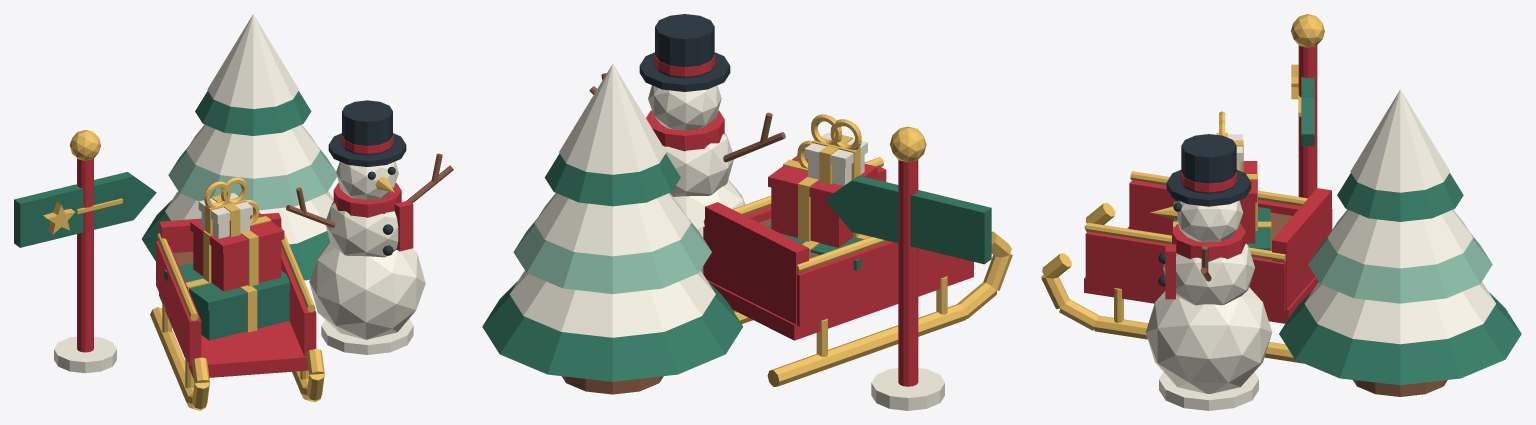
The model's file is sleighstop.glb.
3 renders of one model, left to right at view 1: azimuth 30°, elevation 25°; view 2: azimuth 150°, elevation 25°; view 3: azimuth 270°, elevation 25°, orthographic. The views are drawn at different scales.
Parts seen in each view (by area): view 1: 002-snowman/1, 003-north-pole-sign/2, 004-snowy-fir/5, 004-snowy-fir/7, 004-snowy-fir/4, 000-santa-sleigh/0, 004-snowy-fir/6, 003-north-pole-sign/1, 002-snowman/2, 001-gift-stack/6, 001-gift-stack/0, 004-snowy-fir/3 (+29 smaller); view 2: 004-snowy-fir/2, 004-snowy-fir/3, 003-north-pole-sign/2, 000-santa-sleigh/1, 004-snowy-fir/4, 004-snowy-fir/5, 004-snowy-fir/7, 000-santa-sleigh/3, 004-snowy-fir/6, 003-north-pole-sign/1, 000-santa-sleigh/4, 000-santa-sleigh/0 (+24 smaller); view 3: 004-snowy-fir/2, 002-snowman/1, 004-snowy-fir/3, 004-snowy-fir/4, 004-snowy-fir/5, 004-snowy-fir/7, 000-santa-sleigh/11, 000-santa-sleigh/1, 004-snowy-fir/6, 002-snowman/2, 002-snowman/5, 000-santa-sleigh/3 (+21 smaller).
Boxes of the visible parts, x1=… form: 002-snowman/1: x1=309, y1=242, x2=425, y2=339; 003-north-pole-sign/2: x1=14, y1=172, x2=156, y2=247; 004-snowy-fir/5: x1=186, y1=124, x2=320, y2=178; 004-snowy-fir/7: x1=207, y1=14, x2=298, y2=108; 004-snowy-fir/4: x1=168, y1=147, x2=336, y2=210; 000-santa-sleigh/0: x1=159, y1=293, x2=308, y2=378; 004-snowy-fir/6: x1=195, y1=91, x2=311, y2=135; 003-north-pole-sign/1: x1=77, y1=158, x2=93, y2=352; 002-snowman/2: x1=325, y1=200, x2=403, y2=257; 001-gift-stack/6: x1=193, y1=233, x2=281, y2=291; 001-gift-stack/0: x1=193, y1=291, x2=289, y2=340; 004-snowy-fir/3: x1=165, y1=191, x2=333, y2=244; 004-snowy-fir/2: x1=482, y1=281, x2=742, y2=381; 004-snowy-fir/3: x1=509, y1=271, x2=715, y2=337; 003-north-pole-sign/2: x1=825, y1=175, x2=991, y2=264; 000-santa-sleigh/1: x1=705, y1=202, x2=808, y2=326; 004-snowy-fir/4: x1=513, y1=219, x2=711, y2=293; 004-snowy-fir/5: x1=534, y1=193, x2=690, y2=256; 004-snowy-fir/7: x1=559, y1=64, x2=666, y2=174; 000-santa-sleigh/3: x1=797, y1=241, x2=973, y2=326; 004-snowy-fir/6: x1=544, y1=153, x2=680, y2=206; 003-north-pole-sign/1: x1=898, y1=159, x2=918, y2=386; 000-santa-sleigh/4: x1=767, y1=304, x2=967, y2=386; 000-santa-sleigh/0: x1=707, y1=265, x2=973, y2=340; 004-snowy-fir/2: x1=1279, y1=292, x2=1521, y2=385; 002-snowman/1: x1=1145, y1=287, x2=1272, y2=393; 004-snowy-fir/3: x1=1304, y1=282, x2=1495, y2=344; 004-snowy-fir/4: x1=1308, y1=234, x2=1492, y2=303; 004-snowy-fir/5: x1=1327, y1=209, x2=1473, y2=268; 004-snowy-fir/7: x1=1350, y1=89, x2=1450, y2=192; 000-santa-sleigh/11: x1=1085, y1=231, x2=1285, y2=312; 000-santa-sleigh/1: x1=1272, y1=188, x2=1331, y2=311; 004-snowy-fir/6: x1=1337, y1=173, x2=1463, y2=221; 002-snowman/2: x1=1163, y1=243, x2=1254, y2=305; 002-snowman/5: x1=1181, y1=134, x2=1236, y2=193; 000-santa-sleigh/3: x1=1129, y1=180, x2=1332, y2=235.
Bounding box in the file's own units: 3.69 × 2.4 × 3.64.
